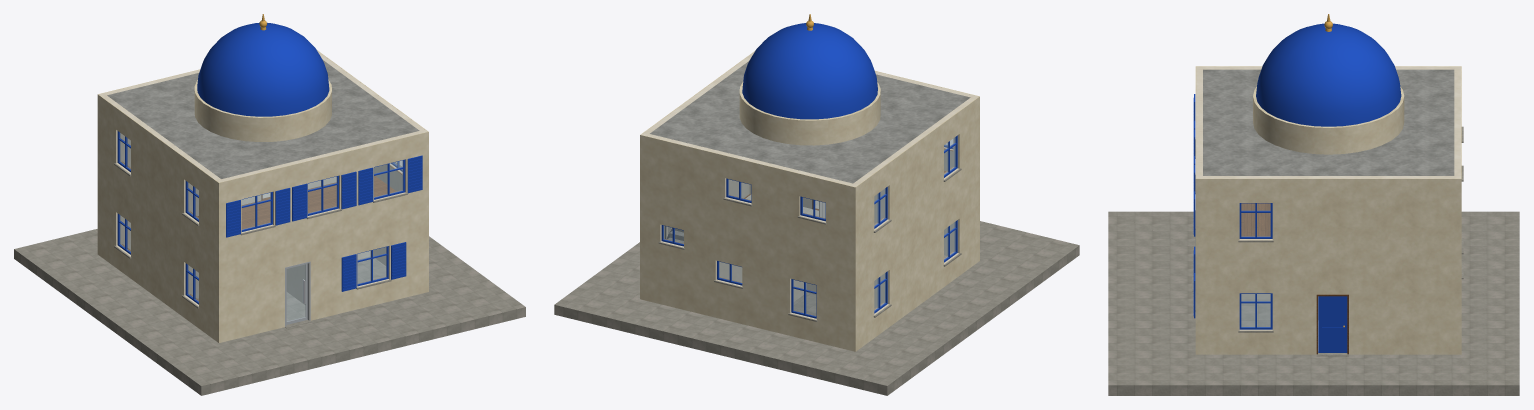
Rendered from b_santorini_house.gltf.
3 renders of one model, left to right at view 1: azimuth 30°, elevation 25°; view 2: azimuth 150°, elevation 25°; view 3: azimuth 270°, elevation 25°, orthographic. The views are drawn at different scales.
Parts seen in each view (by area): view 1: S_santorini_house, D_santorini_house_F1_S1_Door0; view 2: S_santorini_house; view 3: S_santorini_house, D_santorini_house_F1_E1_Door0.
Boxes of the visible parts, bbox=[...] form: S_santorini_house: bbox=[14, 14, 525, 395]; D_santorini_house_F1_S1_Door0: bbox=[286, 263, 307, 324]; S_santorini_house: bbox=[554, 14, 1079, 395]; S_santorini_house: bbox=[1108, 14, 1519, 395]; D_santorini_house_F1_E1_Door0: bbox=[1318, 296, 1347, 352].
Size of the model in its own units: 14 by 11.07 by 14.
18 materials, 10 textured.
